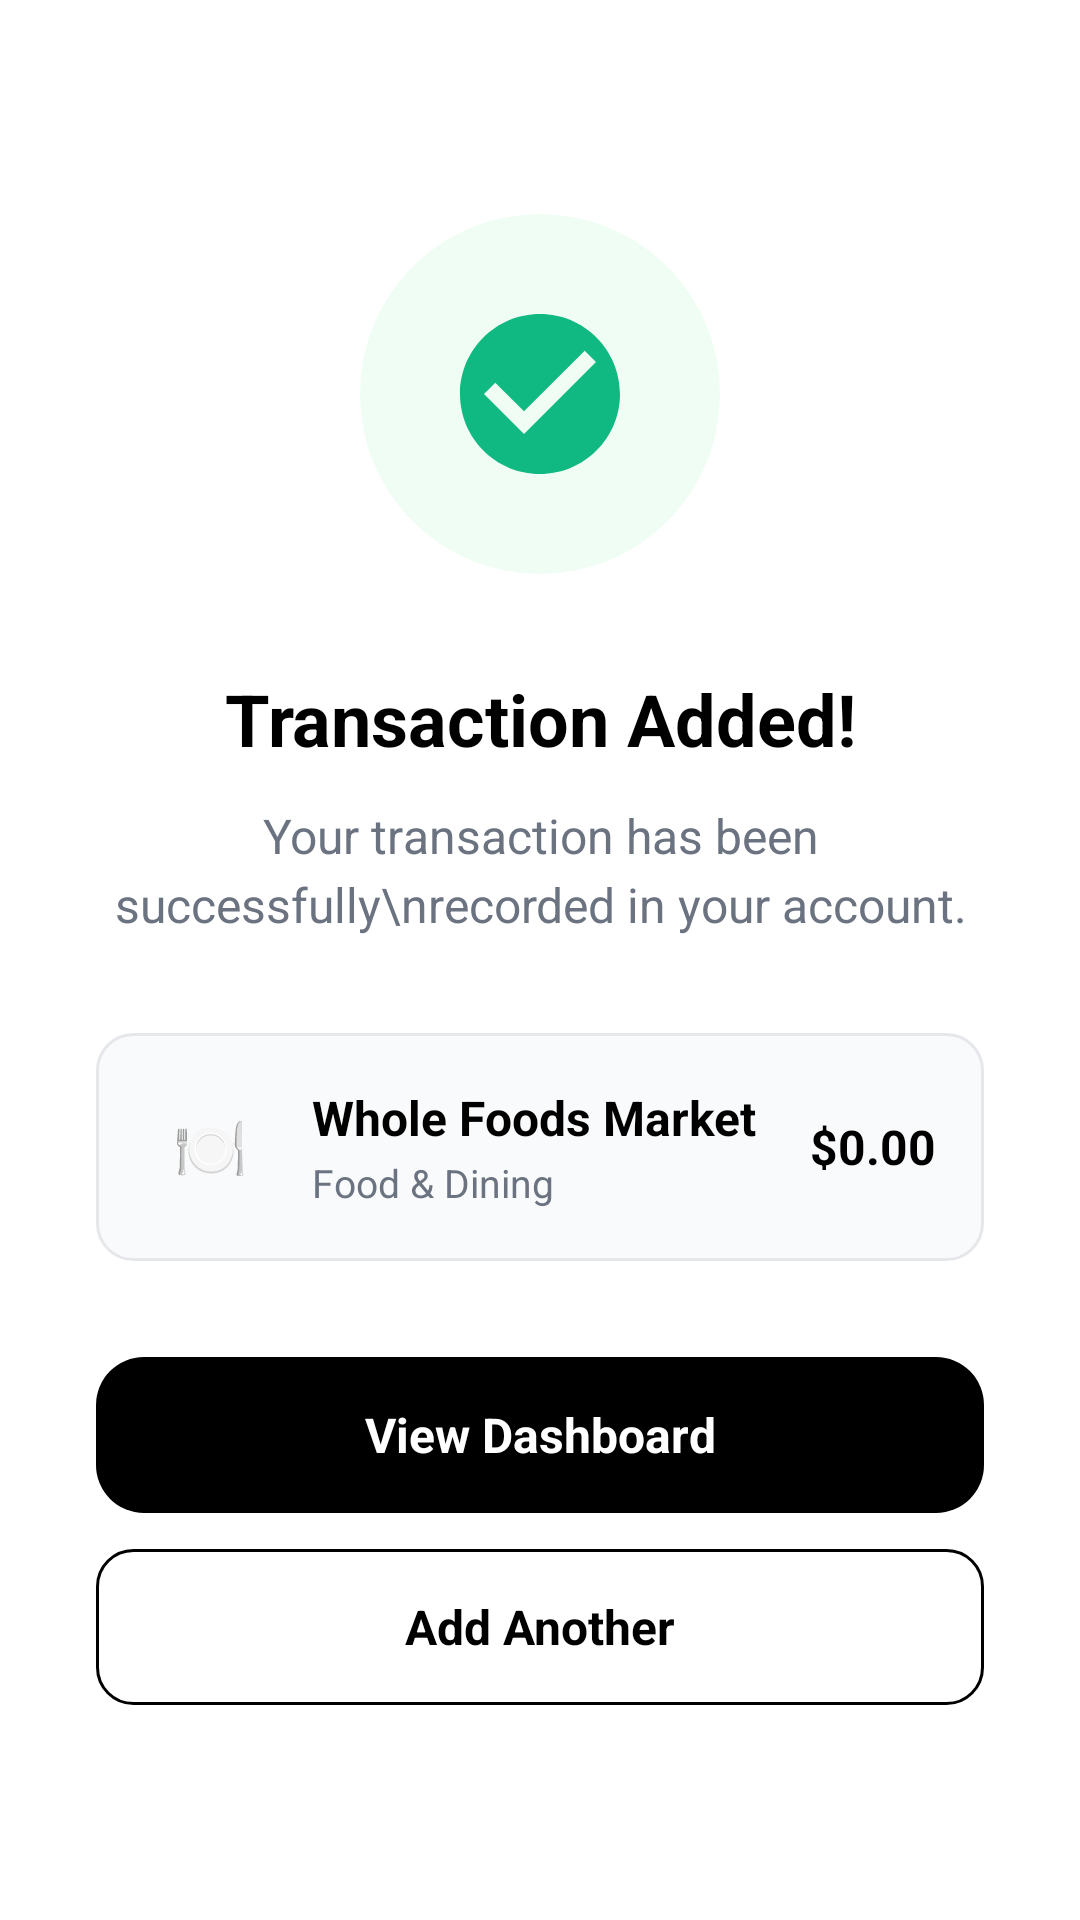

Point at icon controls on the screen. Image size 1080x1920, points as point (x, y).
success check: point (540, 394)
